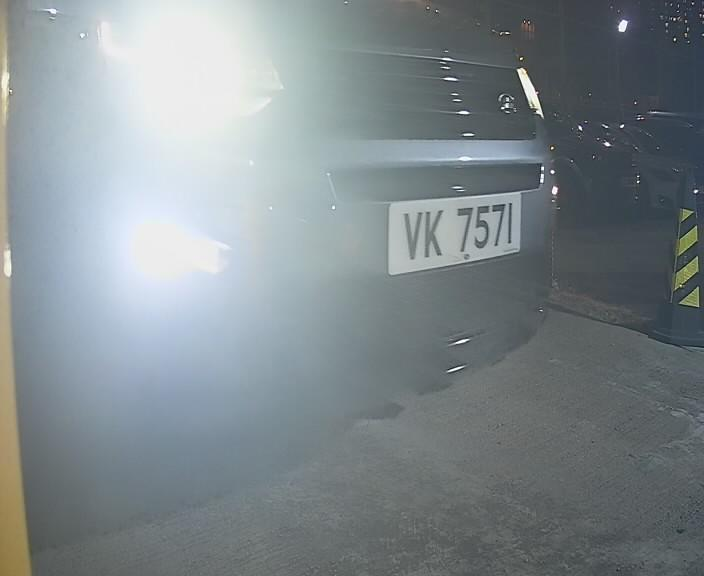privatecar: (15, 2, 576, 446)
